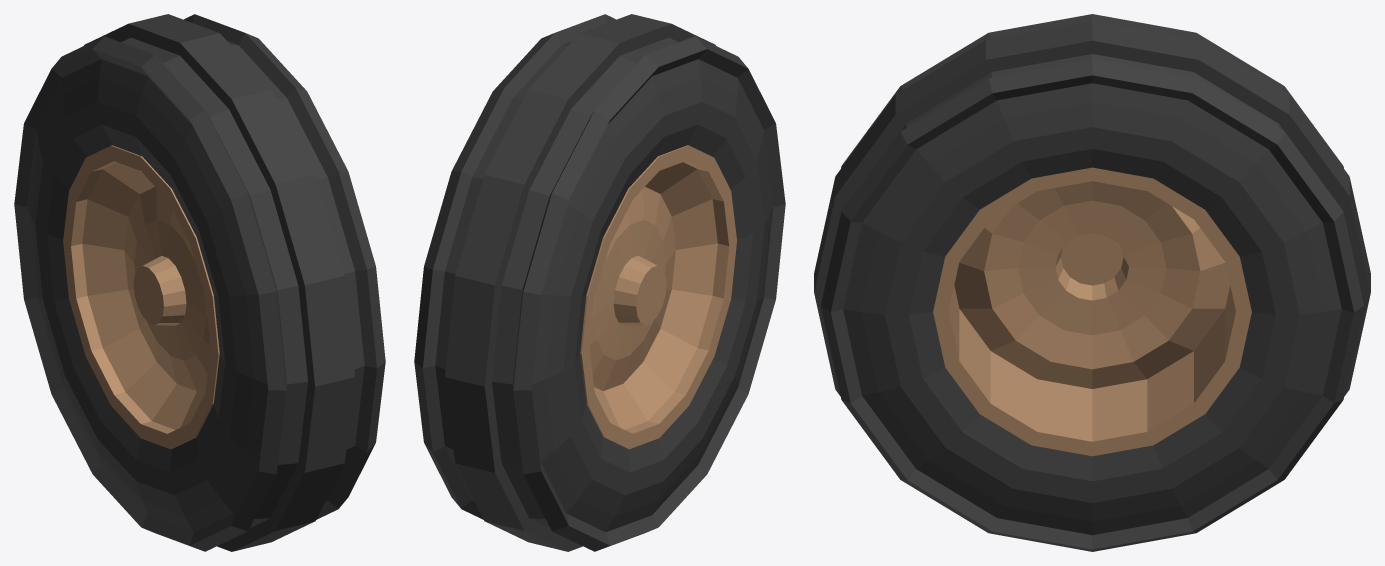
File: trailer_wheel.fbx
3 views of the same model, side by side, from view 1: azimuth 30°, elevation 25°; view 2: azimuth 150°, elevation 25°; view 3: azimuth 270°, elevation 25° (orthographic). The views are drawn at different scales.
Visible parts, largest first — view 1: Trailer pneu droit, Trailer jante droit; view 2: Trailer pneu droit, Trailer jante droit; view 3: Trailer pneu droit, Trailer jante droit.
Boxes of the visible parts, box(x1,y1,x2,y2) form: Trailer pneu droit: box(14, 14, 385, 551); Trailer jante droit: box(63, 145, 219, 449); Trailer pneu droit: box(414, 14, 785, 551); Trailer jante droit: box(580, 145, 736, 449); Trailer pneu droit: box(814, 14, 1370, 551); Trailer jante droit: box(933, 167, 1251, 456).
Bounding box in the file's own units: 14.02 × 51.33 × 51.33.
1 material, 1 textured.
